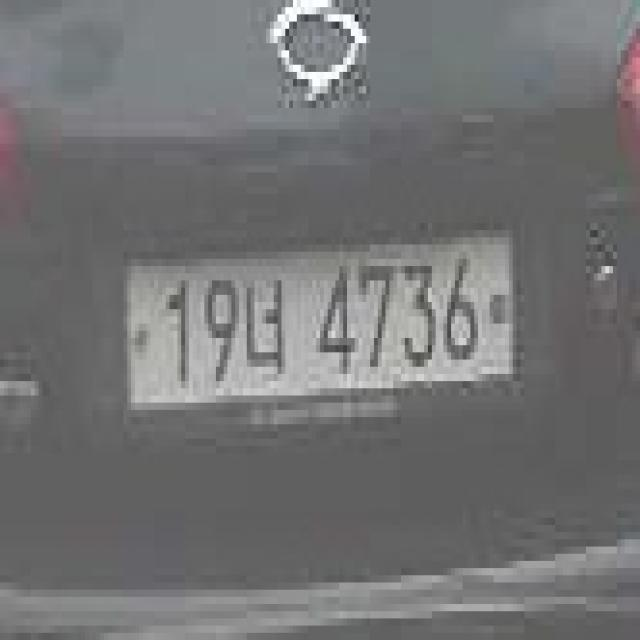1: (162, 274, 197, 396)
3: (401, 244, 443, 374)
4: (316, 259, 359, 388)
6: (439, 252, 482, 366)
7: (355, 252, 401, 374)
9: (200, 274, 243, 396)
license_plate: (108, 209, 528, 453)
neo: (243, 266, 293, 396)
